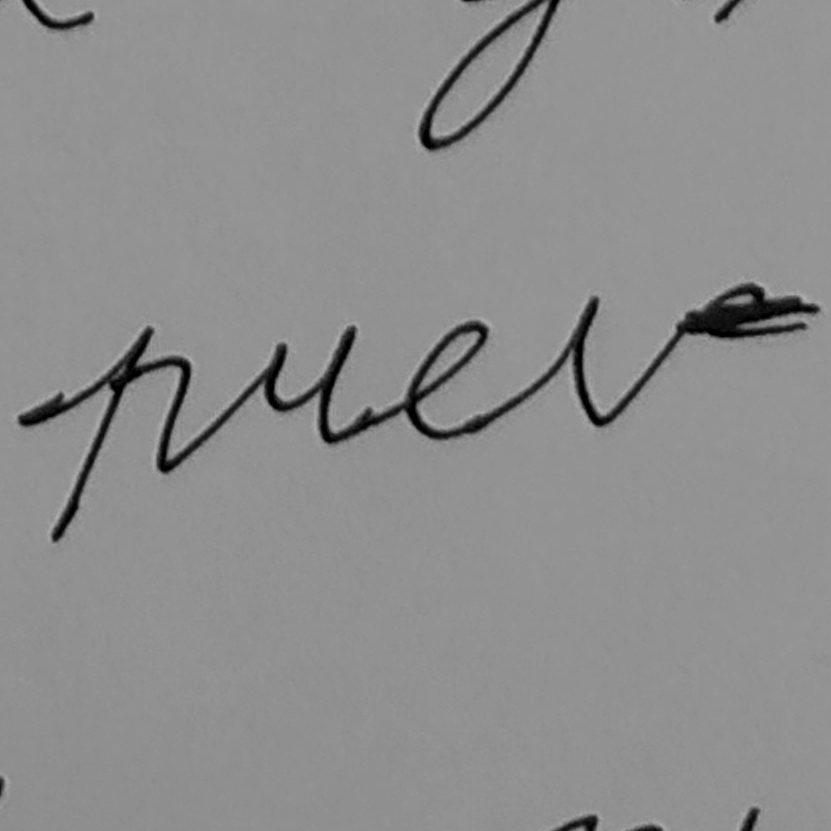e: (397, 314, 514, 449)
p: (46, 321, 194, 547)
r: (239, 320, 360, 449)
v: (561, 284, 715, 429)
